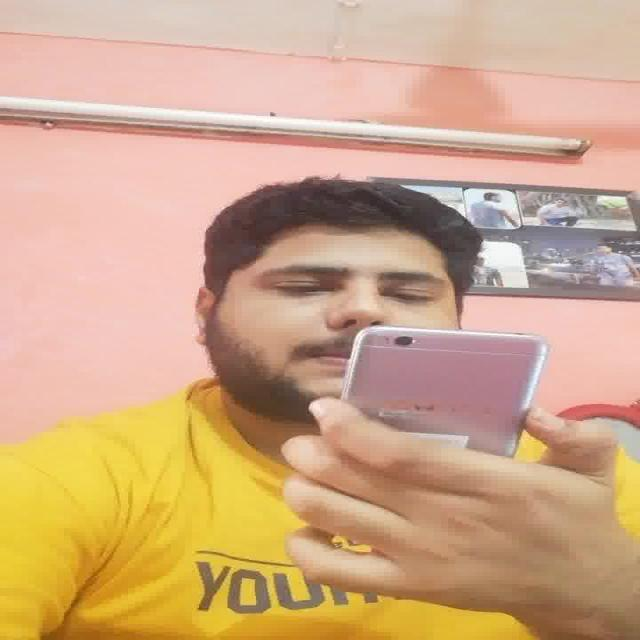phone: (336, 331, 548, 441)
